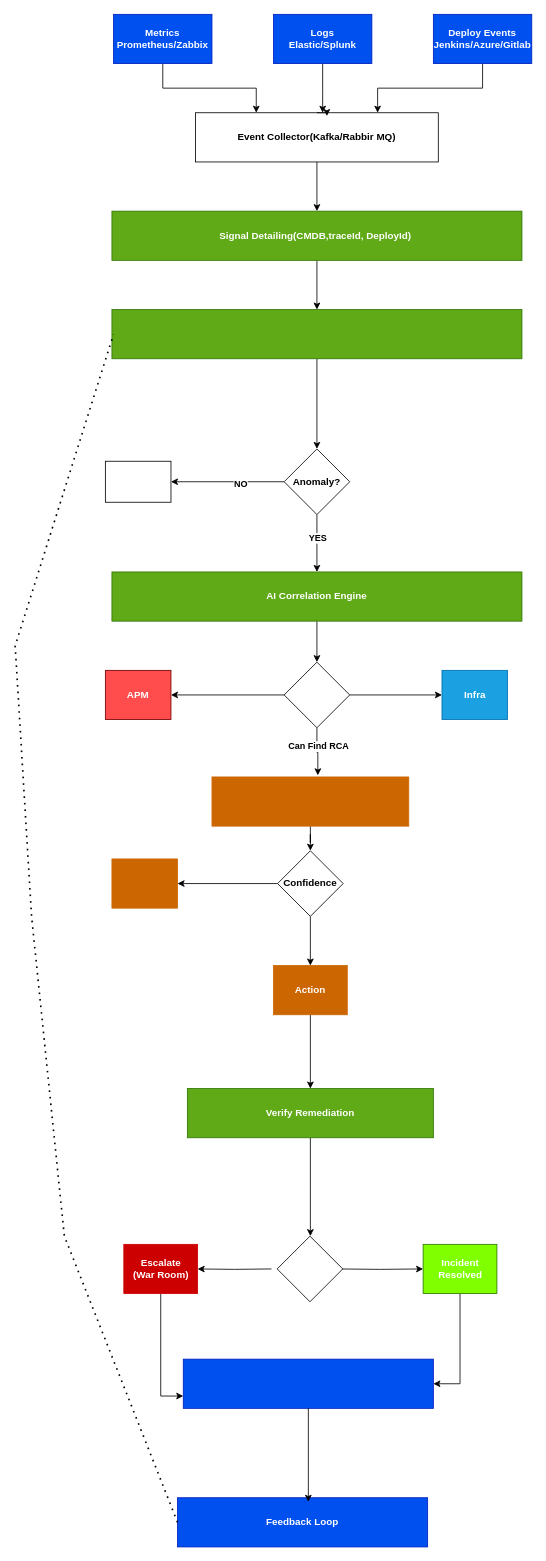
This 546x1561 diagram has some shape labels left out. Here are the shapes that lost their labels. From the top down, the box of each, then its label:
(111, 309, 522, 359): Machiene Learning Based Anomaly Detection
(105, 460, 171, 502): Discard
(283, 661, 350, 728): Root Cause Type
(211, 776, 409, 826): Human Approval Required?
(111, 858, 178, 908): Human Approval
(276, 1235, 343, 1302): Resolved?
(182, 1358, 433, 1408): LLM Creates Post Incident Report(Timeline,RCA)
